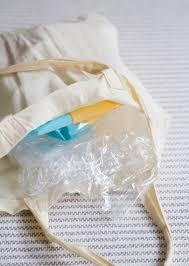Plastic bag: (16, 132, 156, 205)
